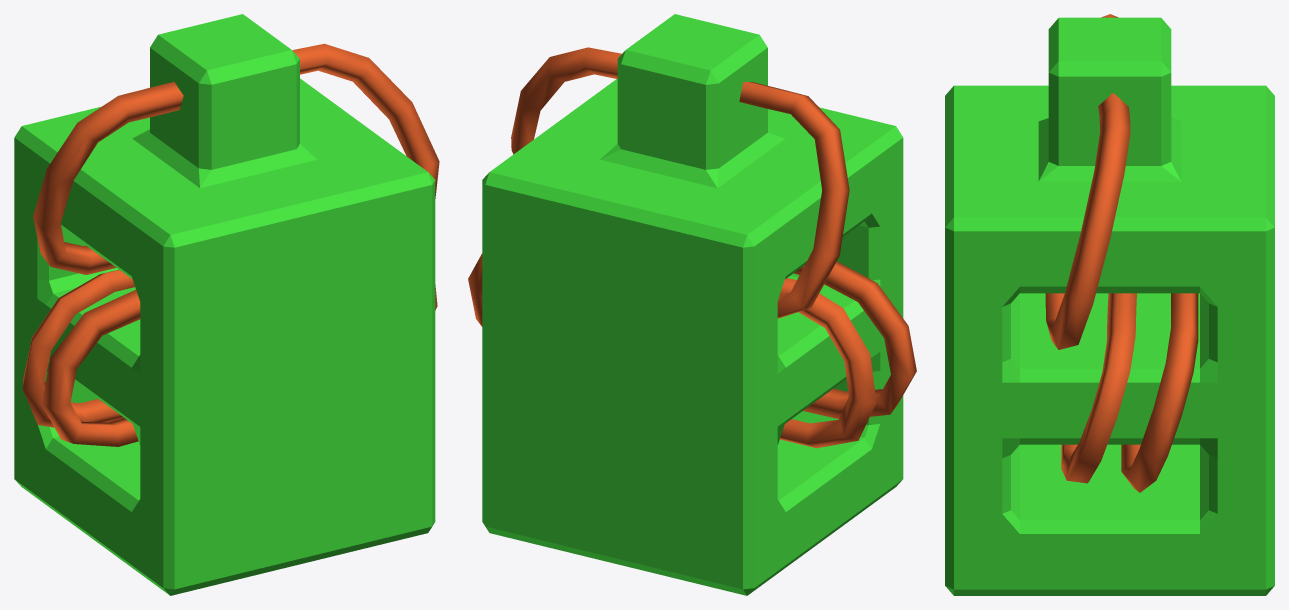
The model's file is fusion2.gltf.
The picture shows the model from 3 angles, left to right: view 1: azimuth 30°, elevation 25°; view 2: azimuth 150°, elevation 25°; view 3: azimuth 270°, elevation 25°; orthographic projection. The views are drawn at different scales.
Parts seen in each view (by area): view 1: Cube, BezierCurve; view 2: Cube, BezierCurve; view 3: Cube, BezierCurve.
Boxes of the visible parts, box(x1,y1,x2,y2) form: Cube: box(14, 14, 435, 595); BezierCurve: box(22, 43, 439, 446); Cube: box(482, 14, 903, 595); BezierCurve: box(468, 47, 916, 448); Cube: box(945, 17, 1274, 595); BezierCurve: box(1045, 14, 1198, 492).
Bounding box in the file's own units: 2.24 × 2.49 × 1.52.
